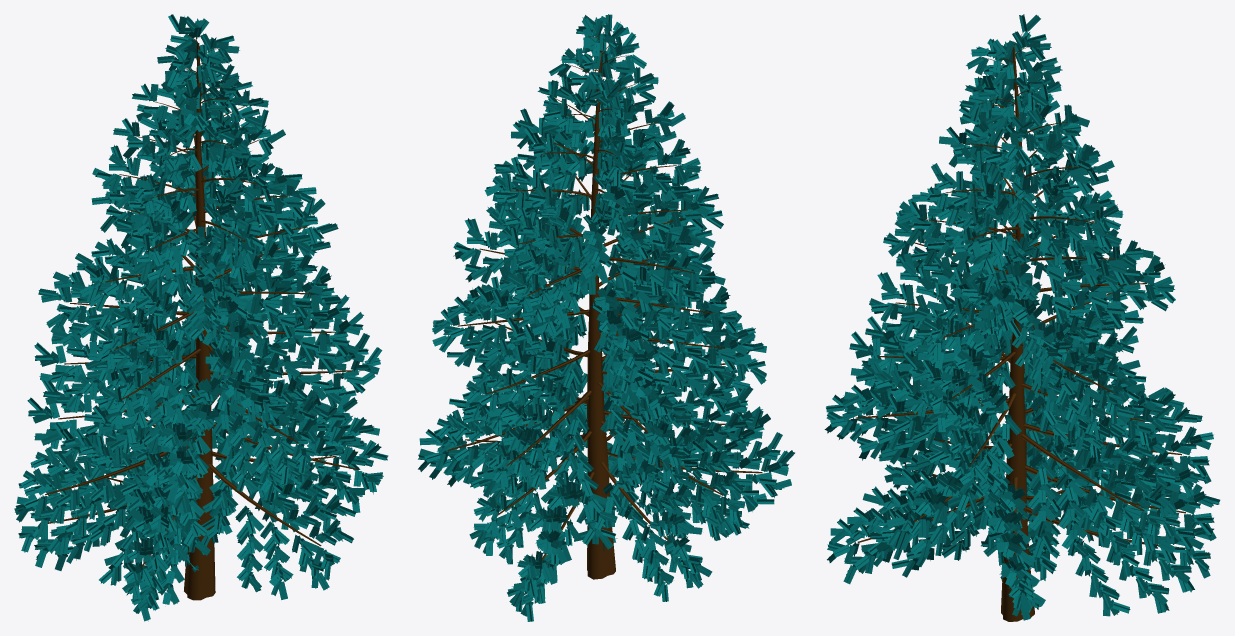
File: Baum 6.FBX
3 renders of one model, left to right at view 1: azimuth 30°, elevation 25°; view 2: azimuth 150°, elevation 25°; view 3: azimuth 270°, elevation 25°, orthographic. The views are drawn at different scales.
Visible parts, largest first — view 1: Foliage003; view 2: Foliage003; view 3: Foliage003.
Part boxes in pixels (x1,y1,x2,y2): Foliage003: (14,14,388,621); Foliage003: (418,14,794,621); Foliage003: (824,14,1220,621).
Bounding box in the file's own units: 610 × 1013 × 612.
